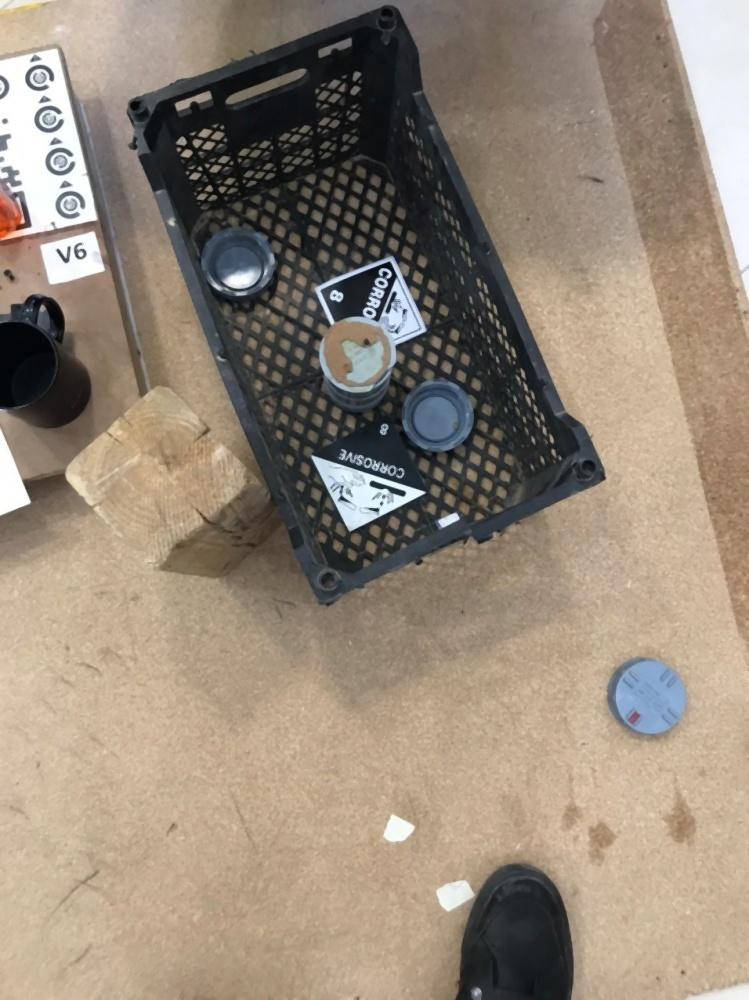corrosive: (307, 418, 429, 532), (314, 257, 426, 354)
